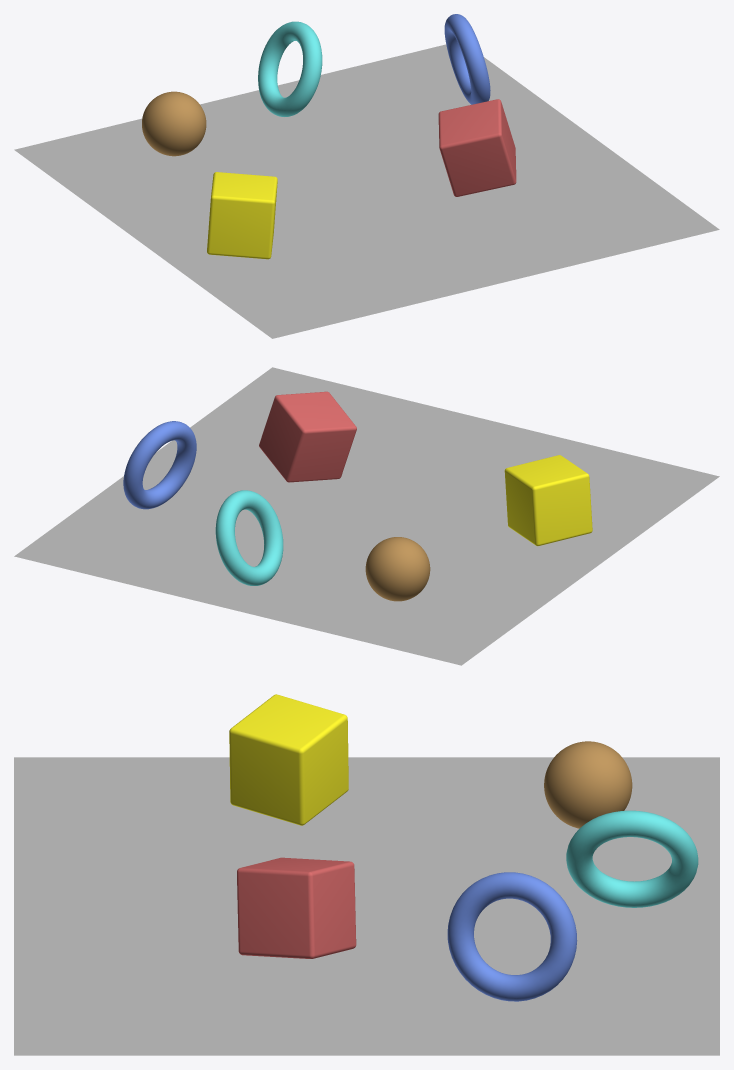
3 renders of one model, top to bottom at view 1: azimuth 30°, elevation 25°; view 2: azimuth 150°, elevation 25°; view 3: azimuth 270°, elevation 25°, orthographic. The views are drawn at different scales.
Visible parts, largest first — view 1: Cube, FileBasedObject.001, FileBasedObject, FileBasedObject.002, FileBasedObject.004, FileBasedObject.003; view 2: Cube, FileBasedObject.001, FileBasedObject, FileBasedObject.002, FileBasedObject.003, FileBasedObject.004; view 3: Cube, FileBasedObject, FileBasedObject.001, FileBasedObject.003, FileBasedObject.002, FileBasedObject.004.
Part boxes in pixels (x1,y1,x2,y2): Cube: (14, 44, 719, 338); FileBasedObject.001: (438, 99, 516, 196); FileBasedObject: (207, 172, 277, 259); FileBasedObject.002: (258, 21, 322, 116); FileBasedObject.004: (142, 91, 206, 156); FileBasedObject.003: (444, 14, 490, 104); Cube: (14, 367, 719, 665); FileBasedObject.001: (259, 391, 356, 482); FileBasedObject: (504, 455, 592, 546); FileBasedObject.002: (215, 490, 283, 585); FileBasedObject.003: (123, 421, 196, 509); FileBasedObject.004: (365, 537, 430, 601); Cube: (14, 757, 719, 1055); FileBasedObject: (229, 694, 348, 825); FileBasedObject.001: (237, 857, 356, 958); FileBasedObject.003: (447, 872, 577, 1001); FileBasedObject.002: (566, 810, 698, 907); FileBasedObject.004: (544, 741, 632, 828).
Bounding box in the file's own units: 8 × 1.64 × 8.
